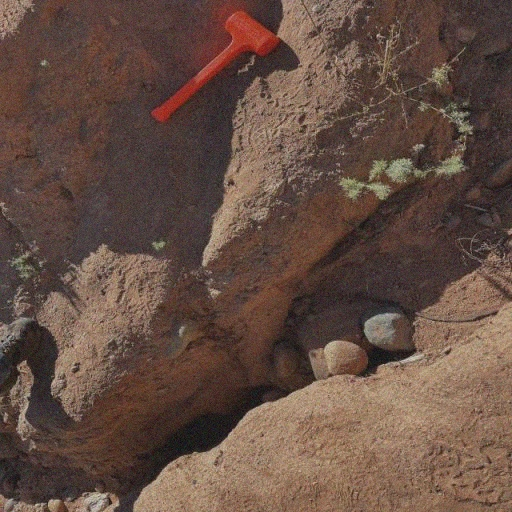mallet: (151, 12, 279, 122)
